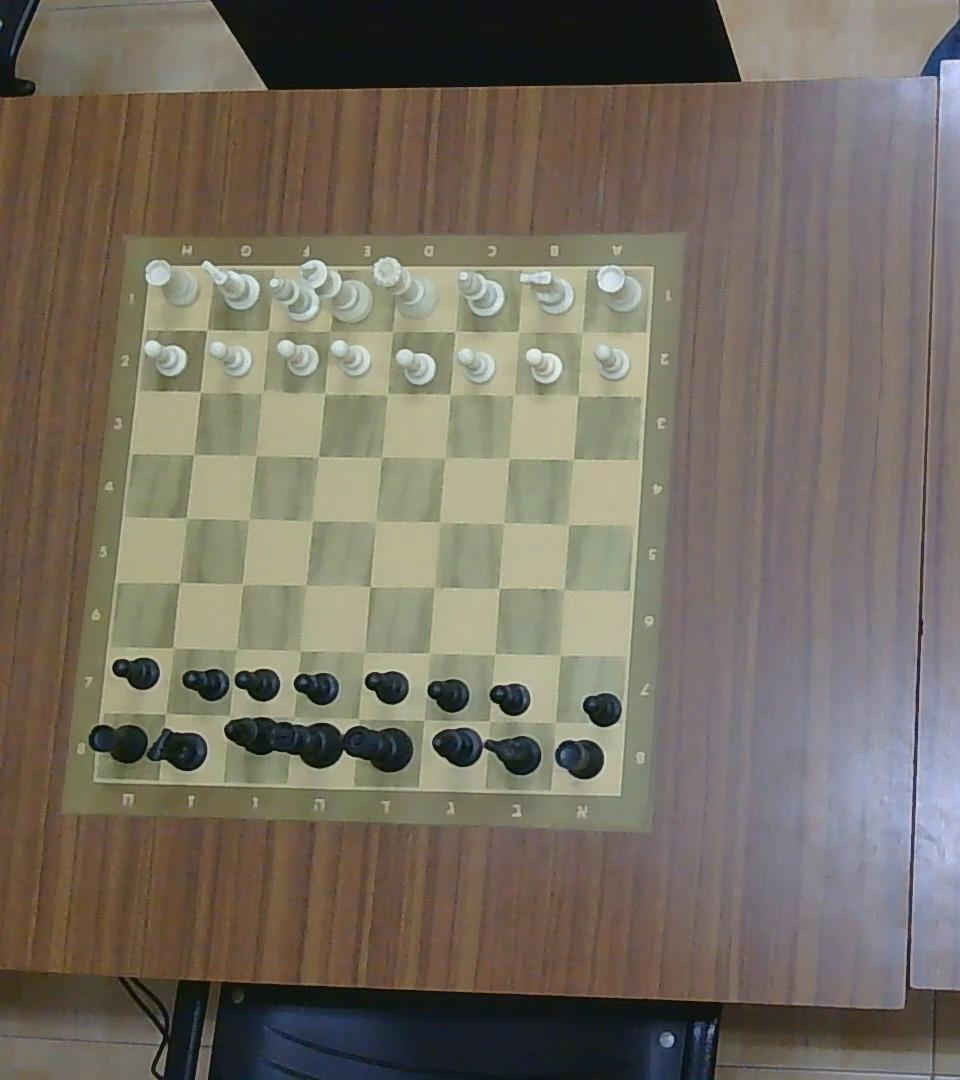xcorner: (343, 707, 368, 733), (217, 702, 241, 728), (277, 703, 299, 731), (543, 710, 568, 734), (154, 701, 179, 725), (379, 318, 403, 342), (318, 317, 341, 340), (477, 709, 501, 731), (288, 638, 310, 660), (413, 709, 434, 731), (365, 510, 386, 532), (162, 637, 184, 658), (553, 578, 575, 599), (245, 443, 266, 464), (182, 443, 202, 464), (169, 571, 189, 592), (197, 318, 217, 339), (420, 642, 440, 663), (370, 447, 390, 467), (360, 575, 380, 595), (445, 320, 465, 340), (258, 320, 278, 340), (483, 644, 503, 664), (423, 577, 443, 597), (225, 639, 245, 659), (177, 507, 196, 528), (296, 575, 315, 595), (376, 383, 395, 403), (240, 509, 259, 529), (440, 383, 459, 403), (504, 383, 523, 403), (429, 511, 448, 531), (549, 645, 569, 664), (488, 579, 508, 598), (559, 513, 578, 532), (510, 321, 529, 340), (494, 513, 513, 532), (232, 574, 251, 593), (564, 449, 583, 468), (315, 383, 333, 403), (354, 642, 374, 660), (499, 448, 518, 466), (308, 447, 326, 466), (303, 510, 321, 529), (253, 382, 272, 400), (573, 321, 591, 340), (570, 385, 588, 404), (435, 448, 453, 466), (190, 382, 208, 400)
